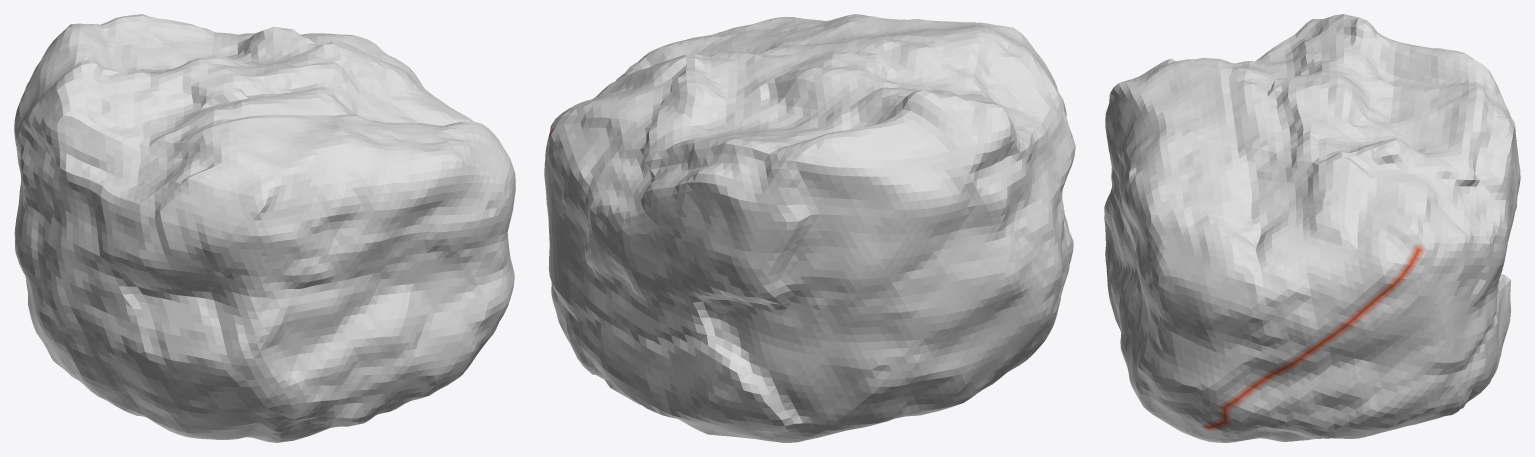
3 renders of one model, left to right at view 1: azimuth 30°, elevation 25°; view 2: azimuth 150°, elevation 25°; view 3: azimuth 270°, elevation 25°, orthographic. The views are drawn at different scales.
Parts seen in each view (by area): view 1: SR2; view 2: SR2; view 3: SR2.
Boxes of the visible parts, box(x1,y1,x2,y2) form: SR2: box(14, 14, 515, 442); SR2: box(544, 14, 1075, 442); SR2: box(1104, 14, 1520, 442).
Size of the model in its own units: 1295 by 918 by 1149.
